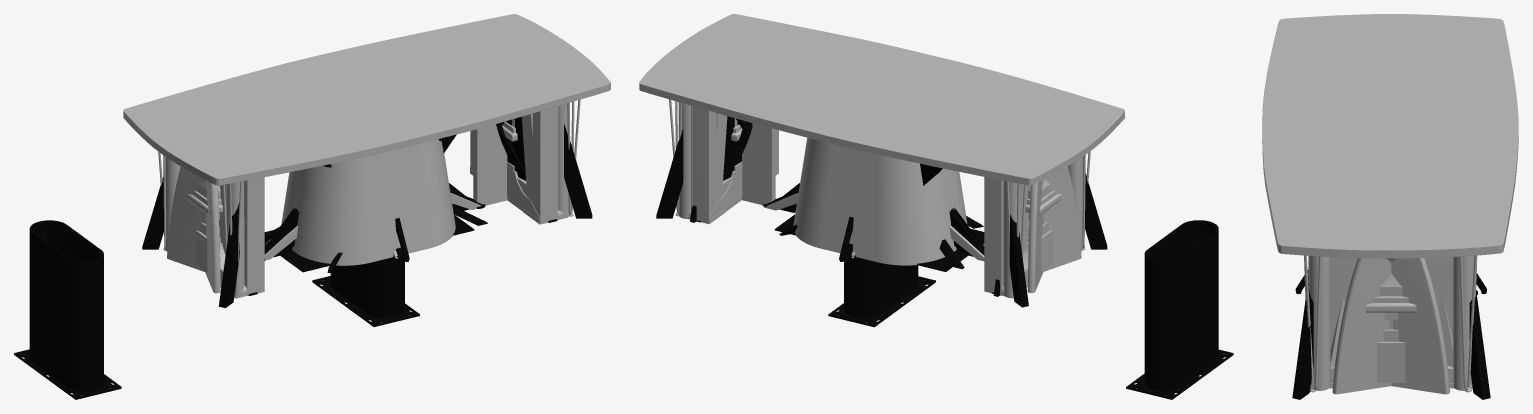
Rendered from Bootsform.glb.
3 renders of one model, left to right at view 1: azimuth 30°, elevation 25°; view 2: azimuth 150°, elevation 25°; view 3: azimuth 270°, elevation 25°, orthographic. The views are drawn at different scales.
Visible parts, largest first — view 1: bootsform_Table_Top_240, bootsform_Double Fluted - WOOD_240, bootsform_Fluted - WOOD_240, bootsform_Triple_240, bootsform_U Shape_240, bootsform_Diagonal Pole_240, bootsform_Pillars - WOOD_240, bootsform_Blok - WOOD_240, bootsform_Hairpin_240, bootsform_Walrus_240, bootsform_V shape_240, bootsform_A shape_240 (+3 smaller); view 2: bootsform_Table_Top_240, bootsform_Double Fluted - WOOD_240, bootsform_Fluted - WOOD_240, bootsform_Triple_240, bootsform_U Shape_240, bootsform_Diagonal Pole_240, bootsform_Blok - WOOD_240, bootsform_Pillars Metal_240, bootsform_Hairpin_240, bootsform_Pillars - WOOD_240, bootsform_Walrus_240, bootsform_V shape_240 (+5 smaller); view 3: bootsform_Table_Top_240, bootsform_Triple_240, bootsform_Pillars - WOOD_240, bootsform_Blok - WOOD_240, bootsform_Diagonal Pole_240, bootsform_Walrus_240, bootsform_Hairpin_240, bootsform_Butterfly Wood_240, bootsform_Half spider - WOOD_240.
Part boxes in pixels (bbox=[...]): bootsform_Table_Top_240: bbox=[123, 14, 610, 185]; bootsform_Double Fluted - WOOD_240: bbox=[14, 220, 419, 399]; bootsform_Fluted - WOOD_240: bbox=[281, 139, 455, 265]; bootsform_Triple_240: bbox=[167, 124, 507, 293]; bootsform_U Shape_240: bbox=[249, 107, 556, 293]; bootsform_Diagonal Pole_240: bbox=[142, 124, 592, 308]; bootsform_Pillars - WOOD_240: bbox=[165, 103, 569, 297]; bootsform_Blok - WOOD_240: bbox=[187, 119, 567, 298]; bootsform_Hairpin_240: bbox=[158, 99, 580, 298]; bootsform_Walrus_240: bbox=[219, 106, 557, 295]; bootsform_V shape_240: bbox=[264, 134, 474, 272]; bootsform_A shape_240: bbox=[517, 113, 532, 200]; bootsform_Table_Top_240: bbox=[639, 14, 1124, 185]; bootsform_Double Fluted - WOOD_240: bbox=[828, 220, 1233, 399]; bootsform_Fluted - WOOD_240: bbox=[793, 137, 967, 265]; bootsform_Triple_240: bbox=[742, 123, 1081, 292]; bootsform_U Shape_240: bbox=[693, 106, 999, 292]; bootsform_Diagonal Pole_240: bbox=[656, 130, 1107, 307]; bootsform_Blok - WOOD_240: bbox=[688, 118, 1061, 296]; bootsform_Pillars Metal_240: bbox=[681, 103, 1077, 298]; bootsform_Hairpin_240: bbox=[669, 99, 1090, 258]; bootsform_Pillars - WOOD_240: bbox=[678, 102, 1083, 296]; bootsform_Walrus_240: bbox=[691, 105, 1029, 295]; bootsform_V shape_240: bbox=[774, 163, 984, 271]; bootsform_Table_Top_240: bbox=[1262, 14, 1518, 258]; bootsform_Triple_240: bbox=[1332, 258, 1449, 394]; bootsform_Pillars - WOOD_240: bbox=[1308, 255, 1474, 390]; bootsform_Blok - WOOD_240: bbox=[1329, 258, 1453, 388]; bootsform_Diagonal Pole_240: bbox=[1292, 278, 1490, 399]; bootsform_Walrus_240: bbox=[1308, 256, 1452, 348]; bootsform_Hairpin_240: bbox=[1304, 255, 1477, 392]; bootsform_Butterfly Wood_240: bbox=[1330, 297, 1452, 367]; bootsform_Half spider - WOOD_240: bbox=[1295, 269, 1486, 294].
Bounding box in the file's own units: 3.08 × 1.13 × 1.1.
Materials: 27 (1 with a texture image).
